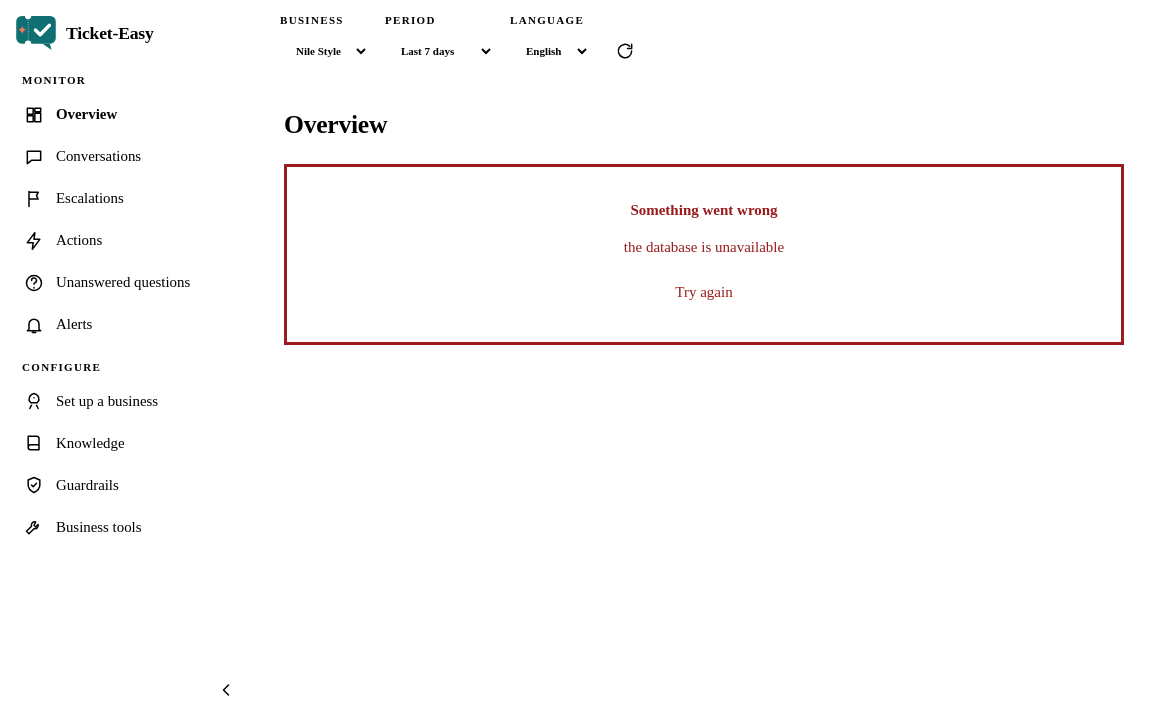
empty and error states › shows the service's own message and a retry button when a page fails
Expected: the message shows "the database is unavailable", [624, 239, 784, 255]
Click the button "Try again".
click(704, 292)  # box [663, 274, 745, 310]
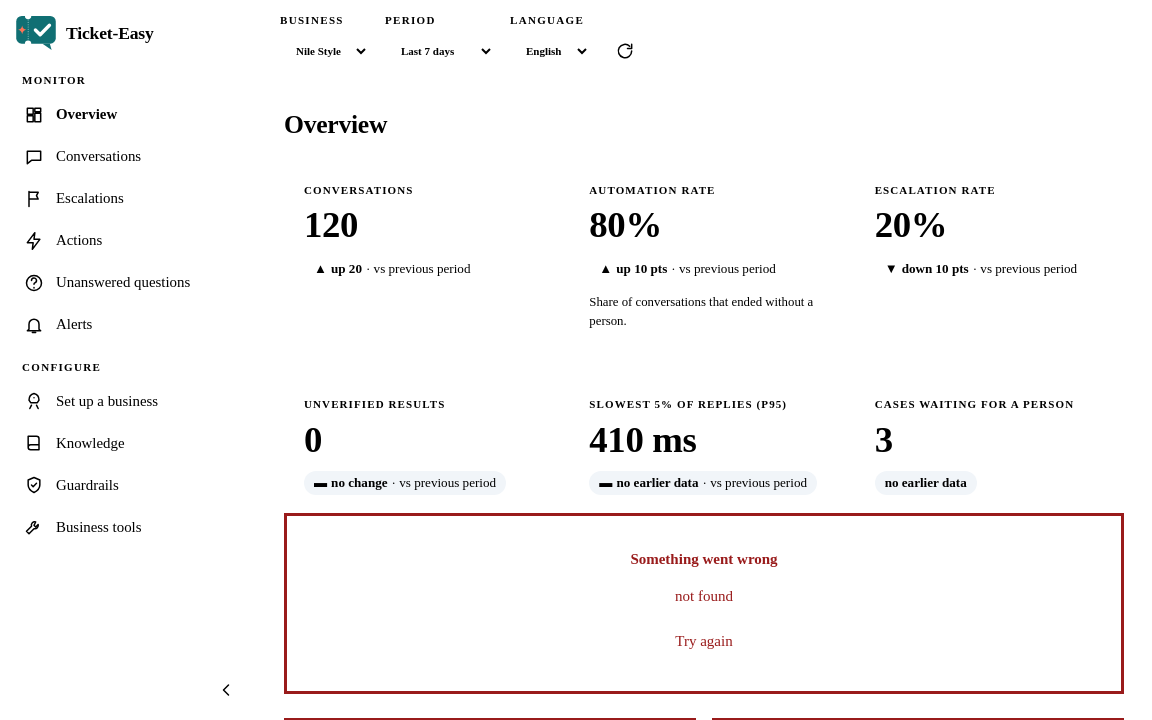
Now the element labelled "Automation rate" is shown, box [589, 184, 813, 328]
